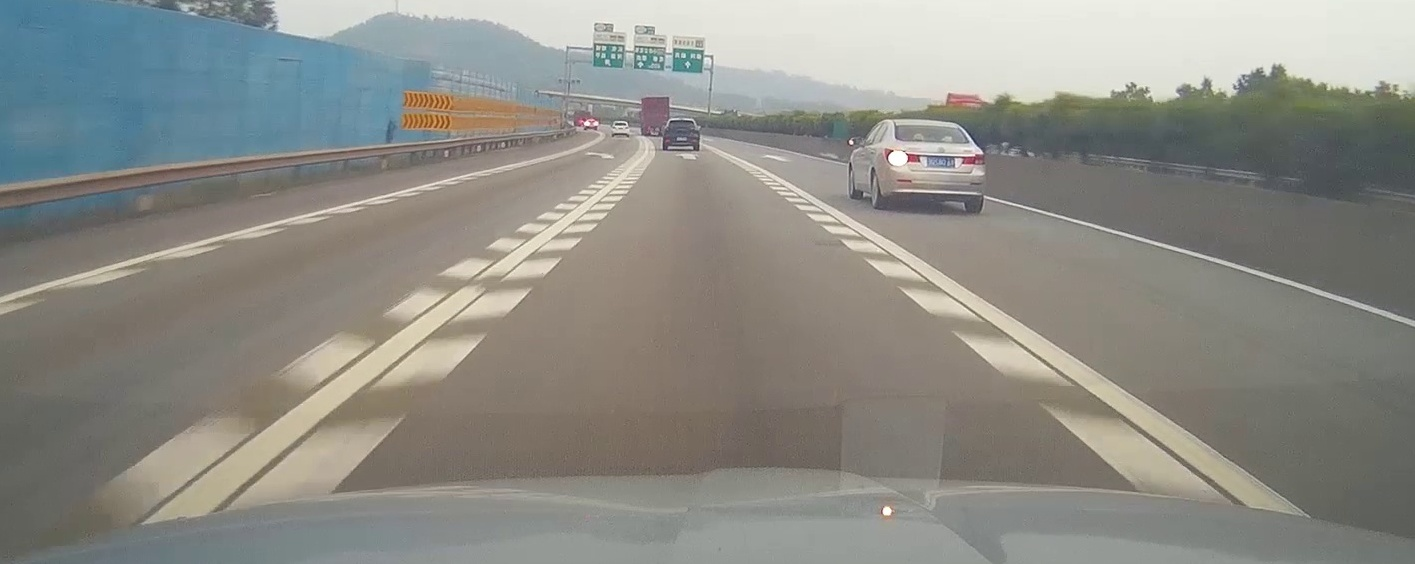L_light: (884, 147, 920, 163), (665, 133, 670, 139)
R_light: (961, 154, 985, 164), (693, 133, 699, 139)
T_light: (924, 125, 937, 127), (678, 120, 686, 121)
day-left: (879, 120, 985, 214)
day-no: (662, 118, 700, 151)
